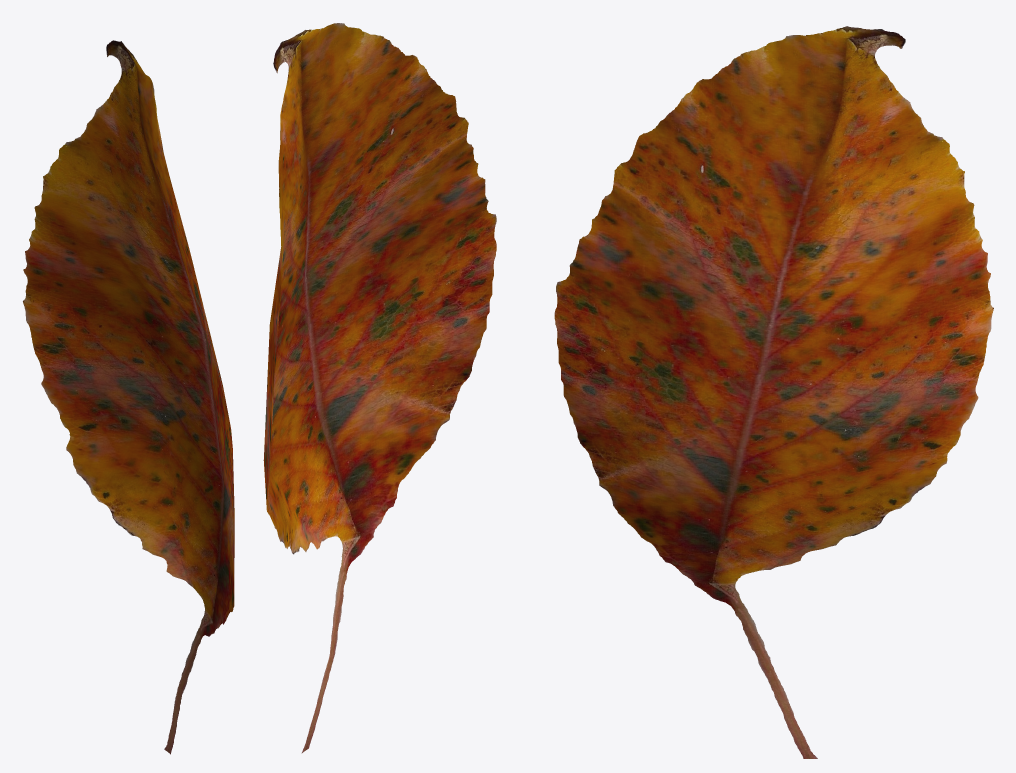
The model's file is LEAF7.fbx.
3 views of the same model, side by side, from view 1: azimuth 30°, elevation 25°; view 2: azimuth 150°, elevation 25°; view 3: azimuth 270°, elevation 25° (orthographic). The views are drawn at different scales.
Parts seen in each view (by area): view 1: FALL48.001; view 2: FALL48.001; view 3: FALL48.001.
Boxes of the visible parts, <box> form: FALL48.001: <box>23,40,234,754</box>; FALL48.001: <box>263,23,496,753</box>; FALL48.001: <box>554,26,993,758</box>.
Bounding box in the file's own units: 13.07 × 100 × 56.71.
